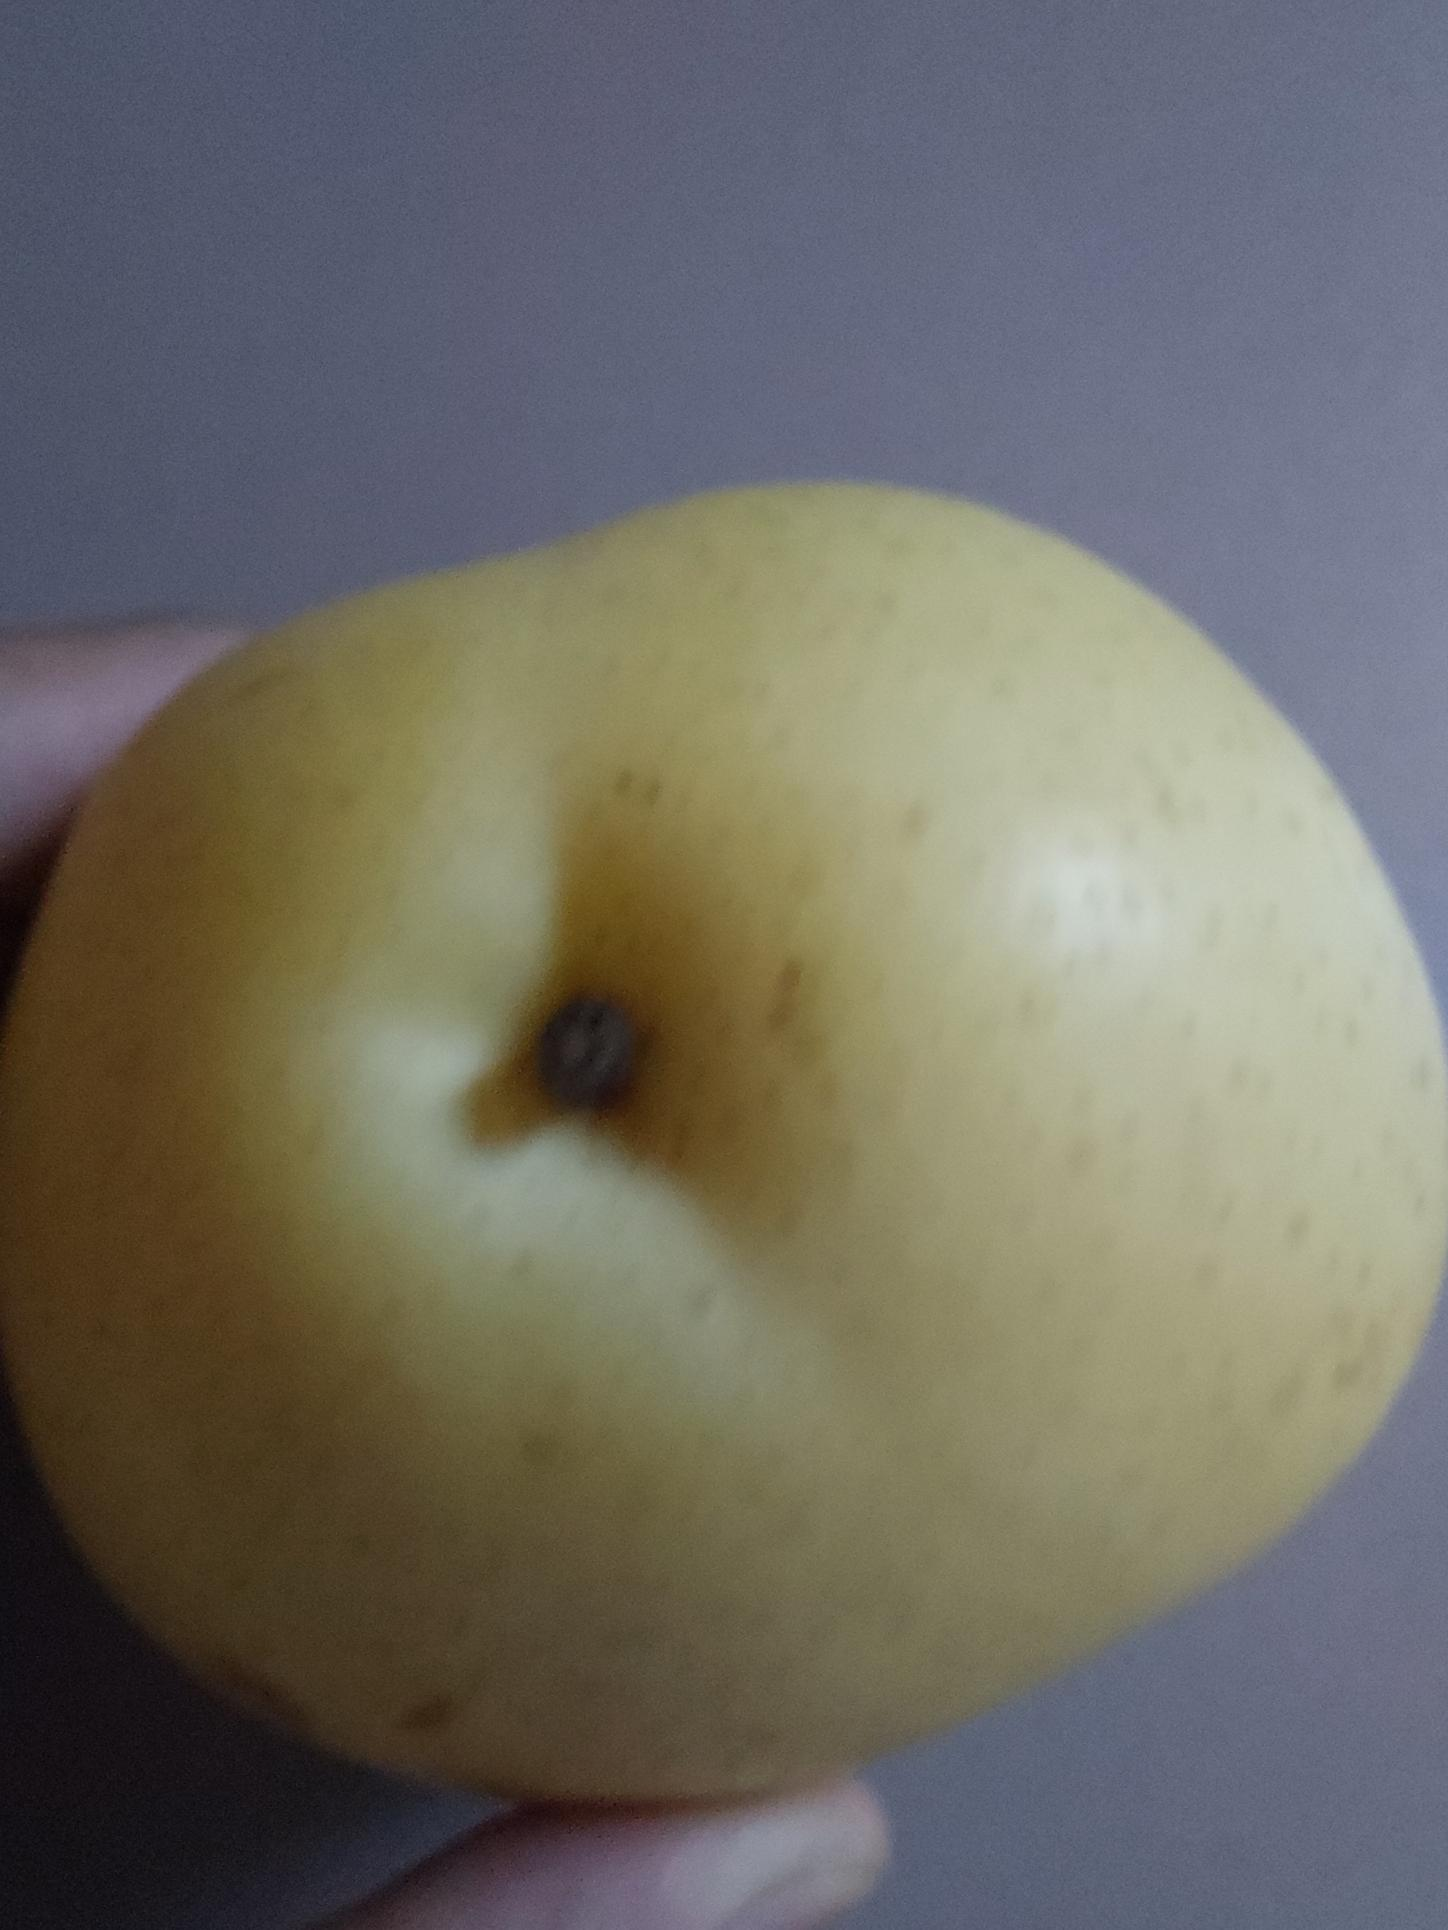Good Pear: (0, 462, 1448, 1820)
